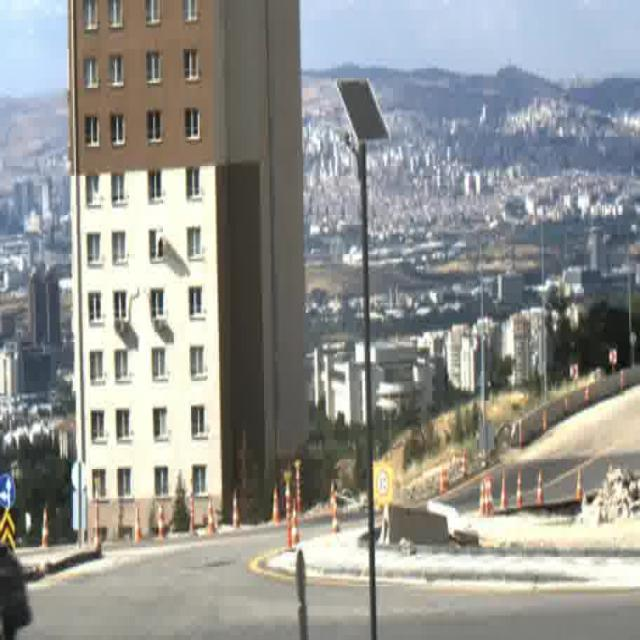Car: (0, 539, 36, 638)
